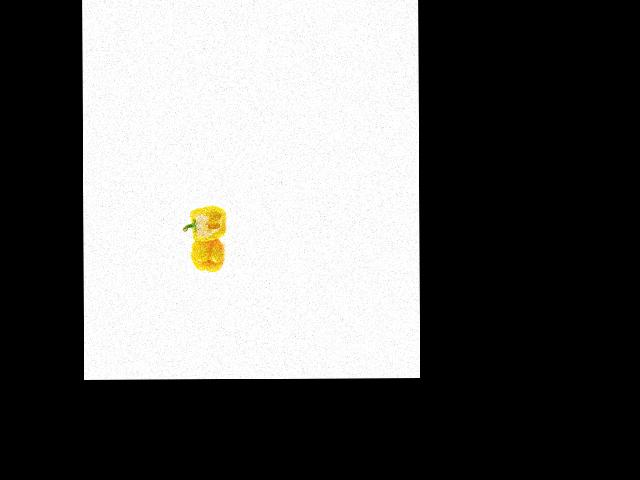bell_pepper: (182, 203, 234, 248)
